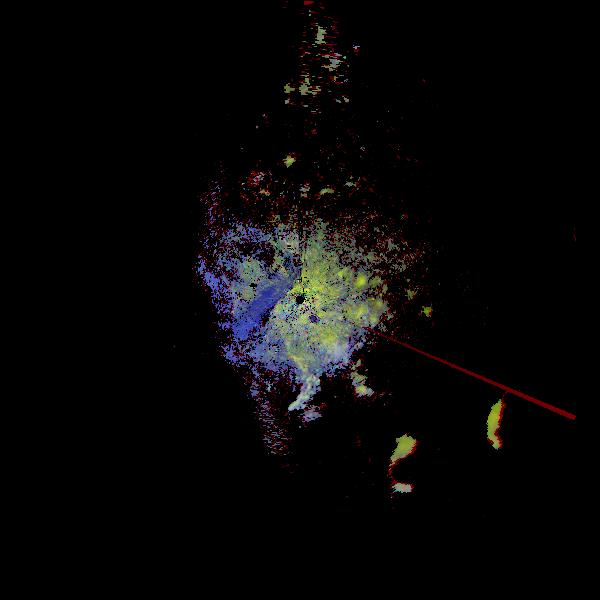roost: (472, 363, 600, 495), (376, 403, 502, 529), (245, 333, 338, 426), (237, 158, 297, 218)
